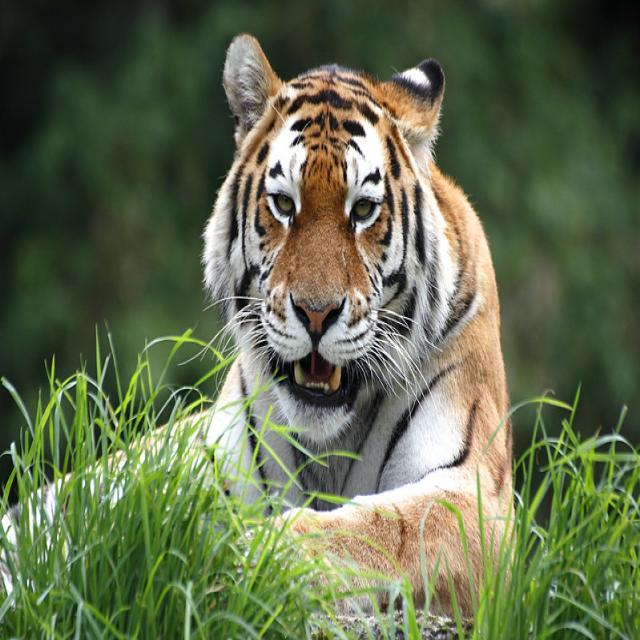Tiger: (197, 30, 516, 627)
